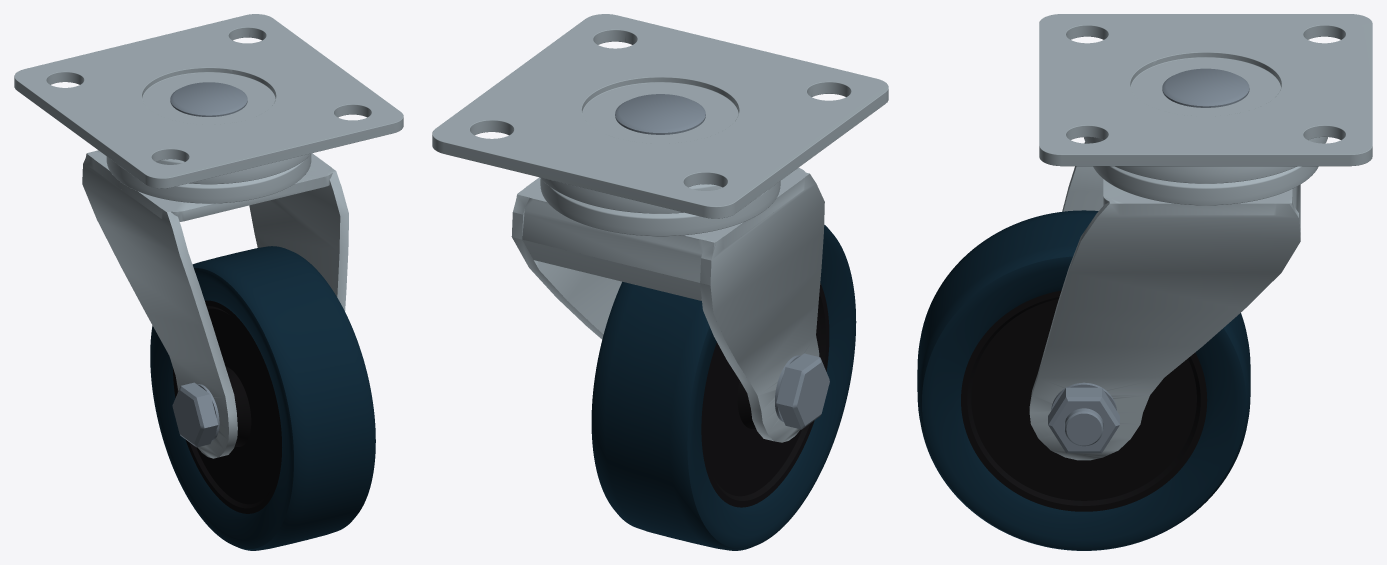
3 views of the same model, side by side, from view 1: azimuth 30°, elevation 25°; view 2: azimuth 150°, elevation 25°; view 3: azimuth 270°, elevation 25° (orthographic). The views are drawn at different scales.
Visible parts, largest first — view 1: part_020_Perforated_mounting_plate, part_027_Blue_rubber_tire, part_024_Formed_fork_carrier, part_026_Dark_molded_wheel_core, part_017_Rotating_bearing_race_cup, part_000_Swivel_retaining_rivet, part_023_Hex_headed_wheel_axle, part_025_Fixed_swivel_race; view 2: part_020_Perforated_mounting_plate, part_027_Blue_rubber_tire, part_024_Formed_fork_carrier, part_026_Dark_molded_wheel_core, part_017_Rotating_bearing_race_cup, part_000_Swivel_retaining_rivet, part_023_Hex_headed_wheel_axle, part_025_Fixed_swivel_race; view 3: part_020_Perforated_mounting_plate, part_024_Formed_fork_carrier, part_027_Blue_rubber_tire, part_026_Dark_molded_wheel_core, part_017_Rotating_bearing_race_cup, part_000_Swivel_retaining_rivet, part_028_Axle_retaining_hex_nut, part_025_Fixed_swivel_race, part_023_Hex_headed_wheel_axle.
Boxes of the visible parts, left/top/right/bottom form: part_020_Perforated_mounting_plate: left=14, top=14, right=403, bottom=188; part_027_Blue_rubber_tire: left=150, top=246, right=375, bottom=550; part_024_Formed_fork_carrier: left=82, top=150, right=348, bottom=458; part_026_Dark_molded_wheel_core: left=173, top=300, right=281, bottom=513; part_017_Rotating_bearing_race_cup: left=106, top=154, right=311, bottom=203; part_000_Swivel_retaining_rivet: left=170, top=82, right=247, bottom=116; part_023_Hex_headed_wheel_axle: left=172, top=382, right=218, bottom=447; part_025_Fixed_swivel_race: left=156, top=153, right=311, bottom=184; part_020_Perforated_mounting_plate: left=432, top=14, right=888, bottom=218; part_027_Blue_rubber_tire: left=591, top=225, right=856, bottom=550; part_024_Formed_fork_carrier: left=511, top=167, right=824, bottom=442; part_026_Dark_molded_wheel_core: left=701, top=283, right=829, bottom=507; part_017_Rotating_bearing_race_cup: left=540, top=179, right=780, bottom=236; part_000_Swivel_retaining_rivet: left=615, top=94, right=705, bottom=134; part_023_Hex_headed_wheel_axle: left=776, top=353, right=829, bottom=429; part_025_Fixed_swivel_race: left=540, top=177, right=722, bottom=213; part_020_Perforated_mounting_plate: left=1039, top=14, right=1372, bottom=166; part_024_Formed_fork_carrier: left=1029, top=142, right=1300, bottom=460; part_027_Blue_rubber_tire: left=917, top=210, right=1250, bottom=550; part_026_Dark_molded_wheel_core: left=961, top=290, right=1207, bottom=511; part_017_Rotating_bearing_race_cup: left=1093, top=166, right=1318, bottom=205; part_000_Swivel_retaining_rivet: left=1162, top=68, right=1249, bottom=107; part_028_Axle_retaining_hex_nut: left=1048, top=387, right=1119, bottom=453; part_025_Fixed_swivel_race: left=1083, top=137, right=1327, bottom=183; part_023_Hex_headed_wheel_axle: left=1065, top=408, right=1103, bottom=446.
Bounding box in the file's own units: 0.052 × 0.077 × 0.071.
